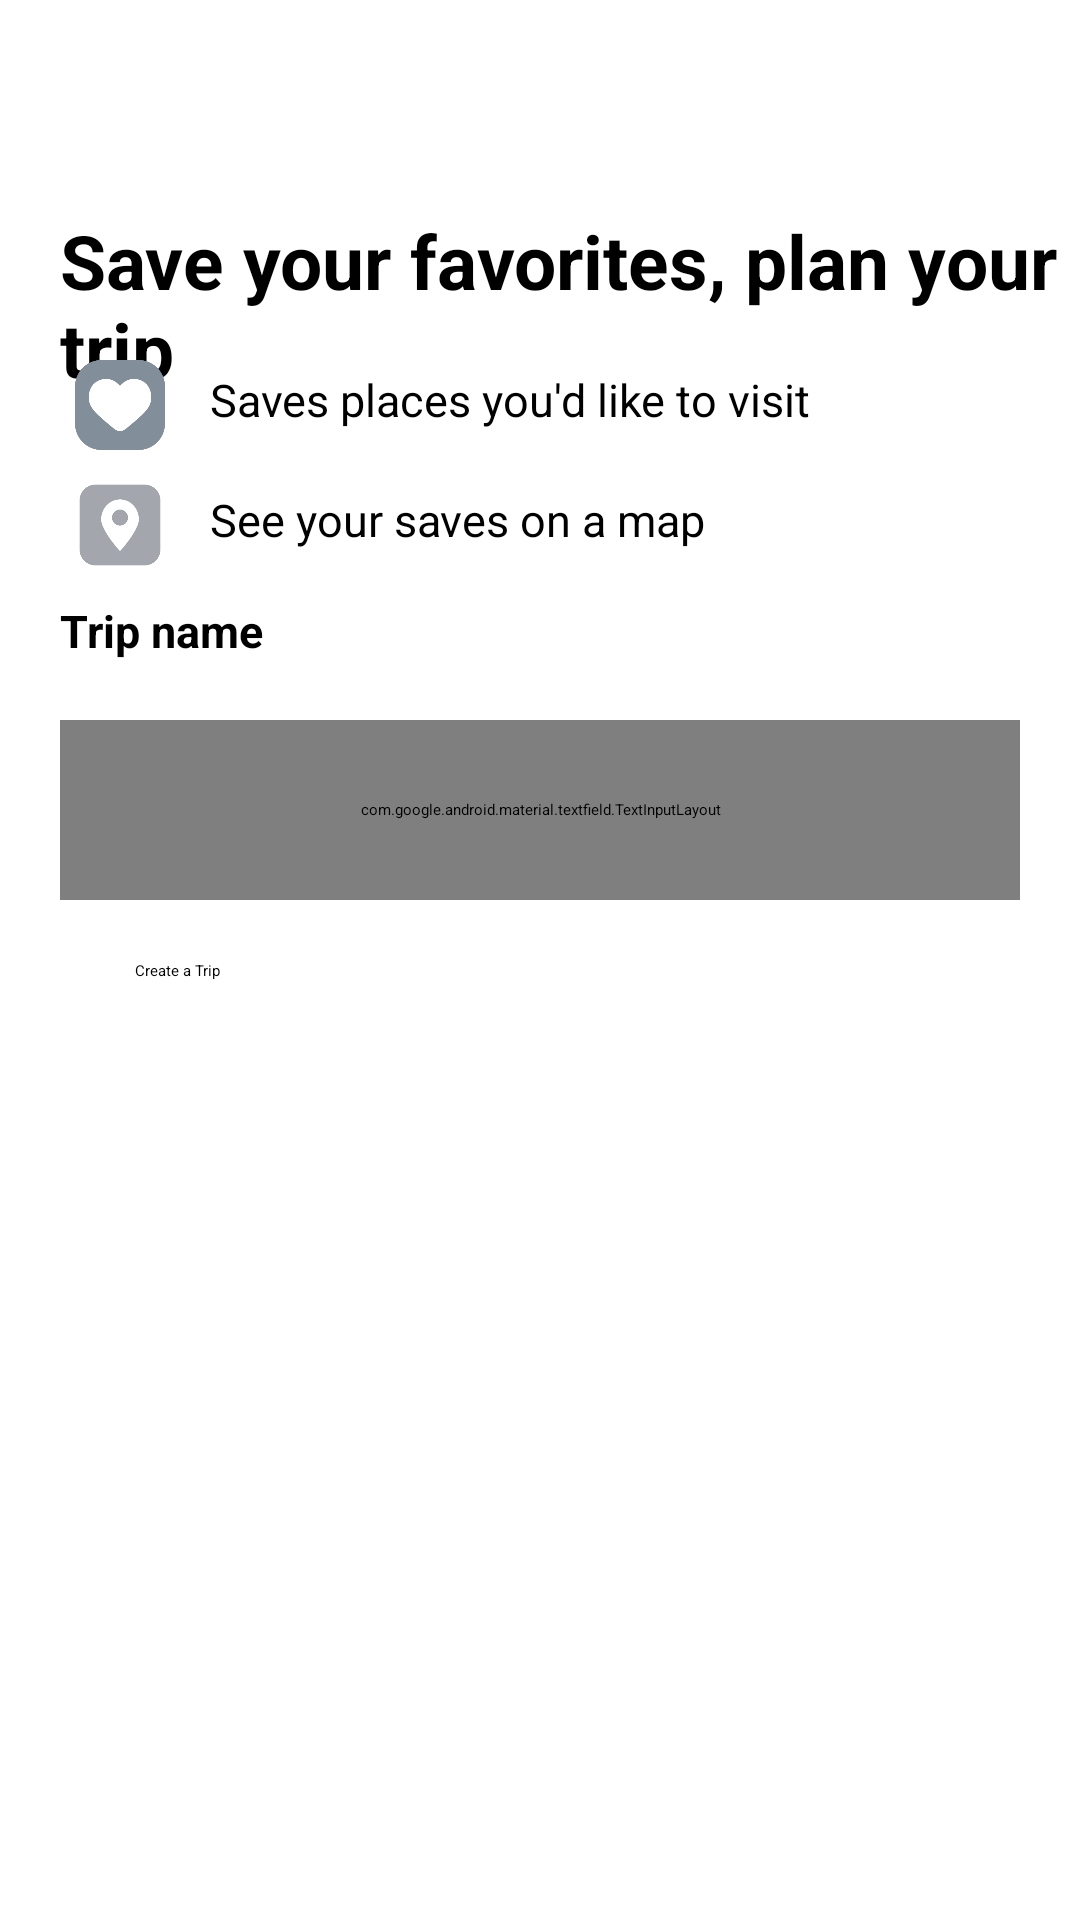

Icons on this 1080x1920 Android screen, each with the point to tap as [x,y]:
lke: [119,405]
pin: [120,525]
